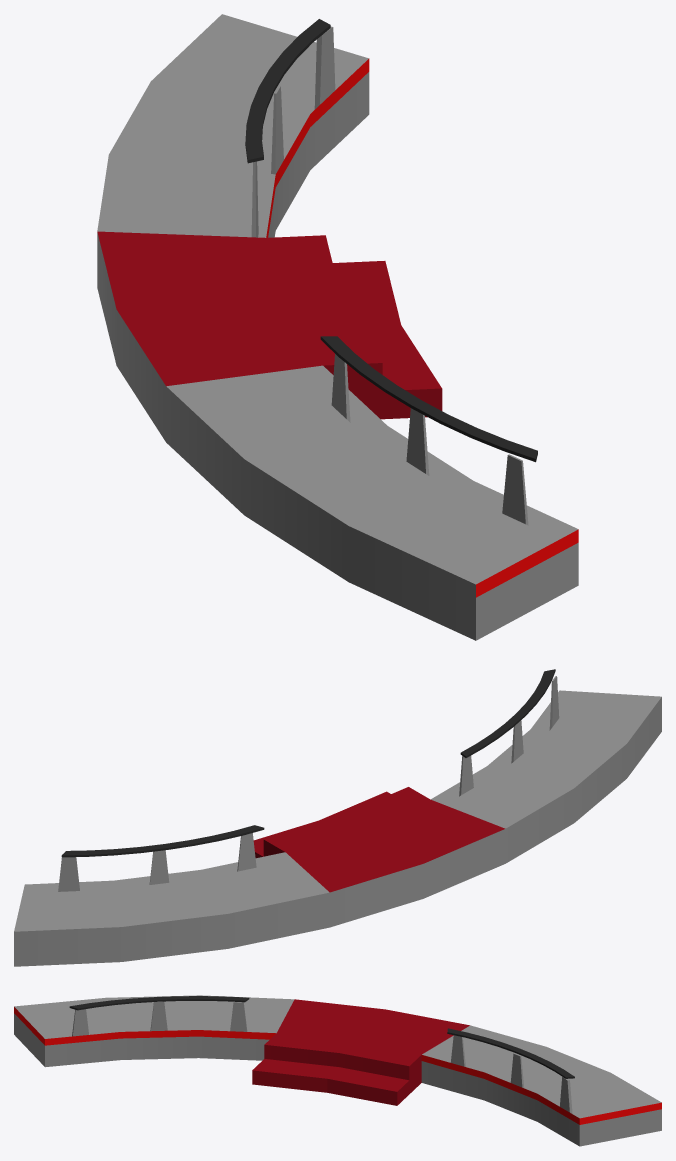
Rendered from Grada1PivoteBienPuesto.FBX.
The picture shows the model from 3 angles, top to bottom: view 1: azimuth 30°, elevation 25°; view 2: azimuth 150°, elevation 25°; view 3: azimuth 270°, elevation 25°; orthographic projection. The views are drawn at different scales.
Visible parts, largest first — view 1: Gradas024; view 2: Gradas024; view 3: Gradas024.
Part boxes in pixels (x1,y1,x2,y2): Gradas024: (97, 14, 578, 640); Gradas024: (14, 669, 661, 966); Gradas024: (14, 995, 661, 1146).
Size of the model in its own units: 4.36 by 0.9329 by 9.71.
